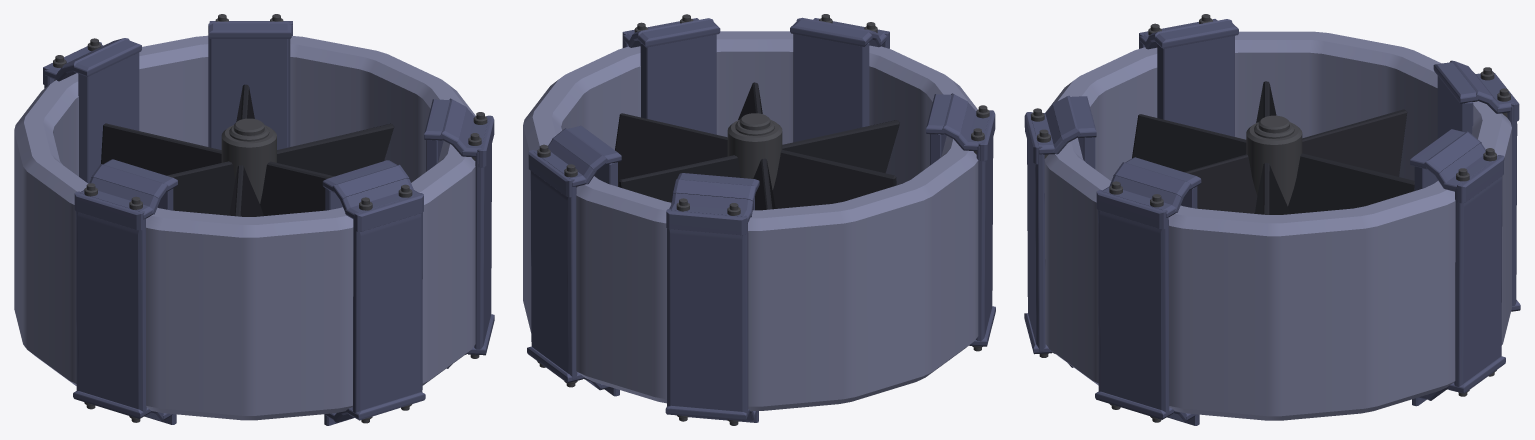
The model's file is turbine.fbx.
3 views of the same model, side by side, from view 1: azimuth 30°, elevation 25°; view 2: azimuth 150°, elevation 25°; view 3: azimuth 270°, elevation 25° (orthographic). The views are drawn at different scales.
Parts seen in each view (by area): view 1: pCube20, pCube21; view 2: pCube20, pCube21; view 3: pCube20, pCube21.
Part boxes in pixels (<box>): pCube20: <box>14,14,494,425</box>; pCube21: <box>101,84,394,216</box>; pCube20: <box>523,14,995,425</box>; pCube21: <box>615,82,899,210</box>; pCube20: <box>1024,14,1520,425</box>; pCube21: <box>1132,81,1414,214</box>.
Bounding box in the file's own units: 101 × 57.93 × 105.
